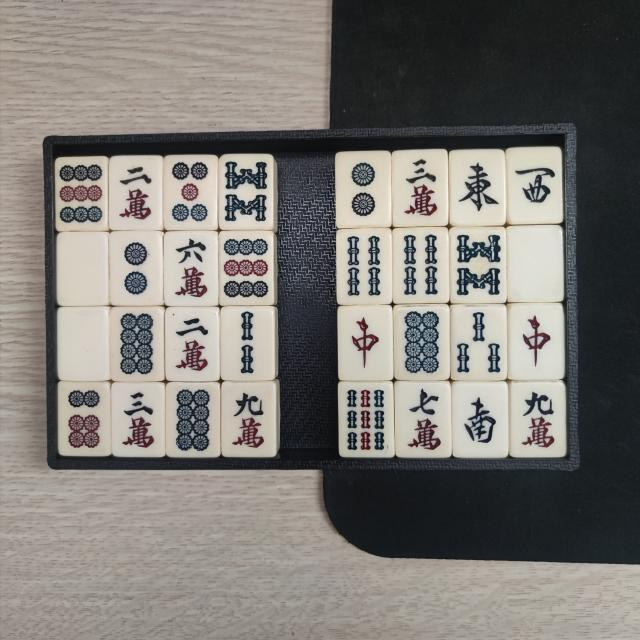hdr: (513, 307, 560, 376), (342, 310, 385, 376)
hdw: (512, 232, 558, 296), (61, 238, 105, 300), (61, 314, 104, 374)
hwe: (454, 154, 502, 221)
hws: (458, 386, 504, 453)
hww: (511, 151, 557, 218)
sb2: (223, 308, 270, 378)
sb3: (454, 308, 504, 378)
sb4: (396, 232, 446, 298), (340, 232, 388, 300)
sb8: (453, 229, 503, 298), (222, 158, 269, 228)
sb9: (341, 384, 389, 454)
sc2: (112, 160, 160, 226), (170, 312, 215, 377)
sc3: (397, 152, 442, 222), (116, 386, 162, 452)
sc6: (167, 234, 215, 302)
sc7: (401, 386, 447, 454)
sc9: (516, 387, 562, 453), (226, 388, 271, 453)
sd2: (340, 156, 386, 222), (114, 234, 157, 300)
sd5: (168, 158, 212, 227)
sd6: (60, 386, 106, 452)
sd8: (398, 308, 444, 378), (169, 386, 216, 454), (114, 312, 159, 378)
sd9: (222, 234, 271, 301), (58, 162, 106, 227)
